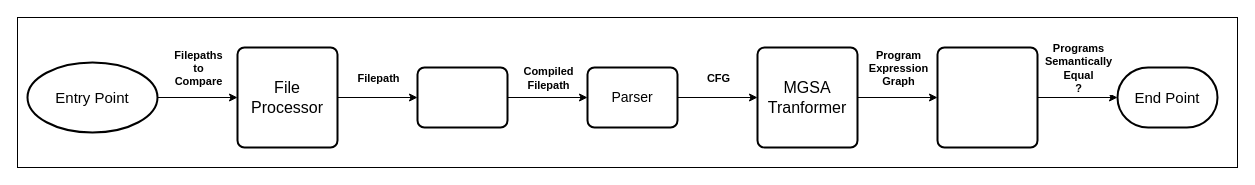
Image size: 1255x185. Some labels were removed from this diagram. Here are the shapes that lost their labels. From the top down, the centre of each, then its label:
At point (462, 97): "Compiler".
At point (987, 97): "Node Invoker".
